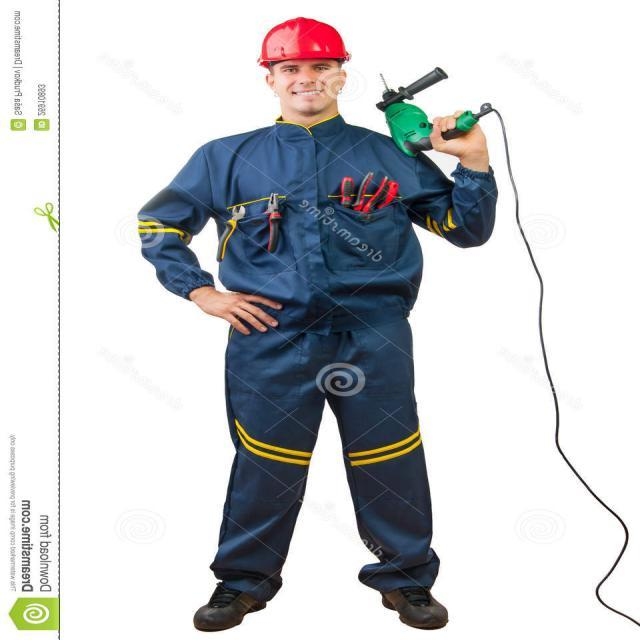safetyhelmet: (247, 5, 353, 121)
